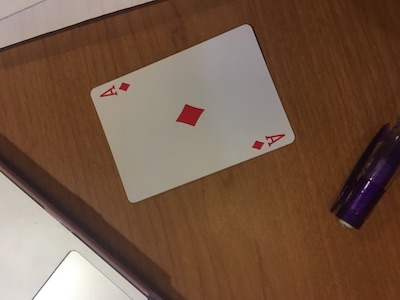AceOfDiamonds: (86, 23, 298, 209)
